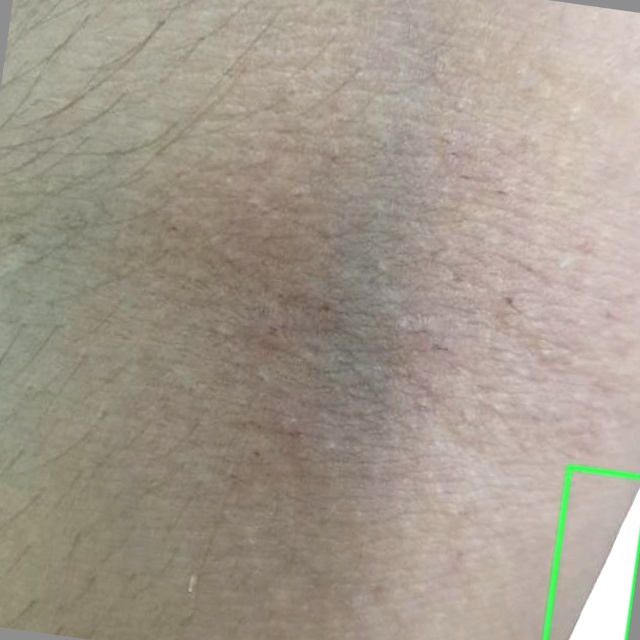Contact Dermatitis: (545, 466, 639, 639)
